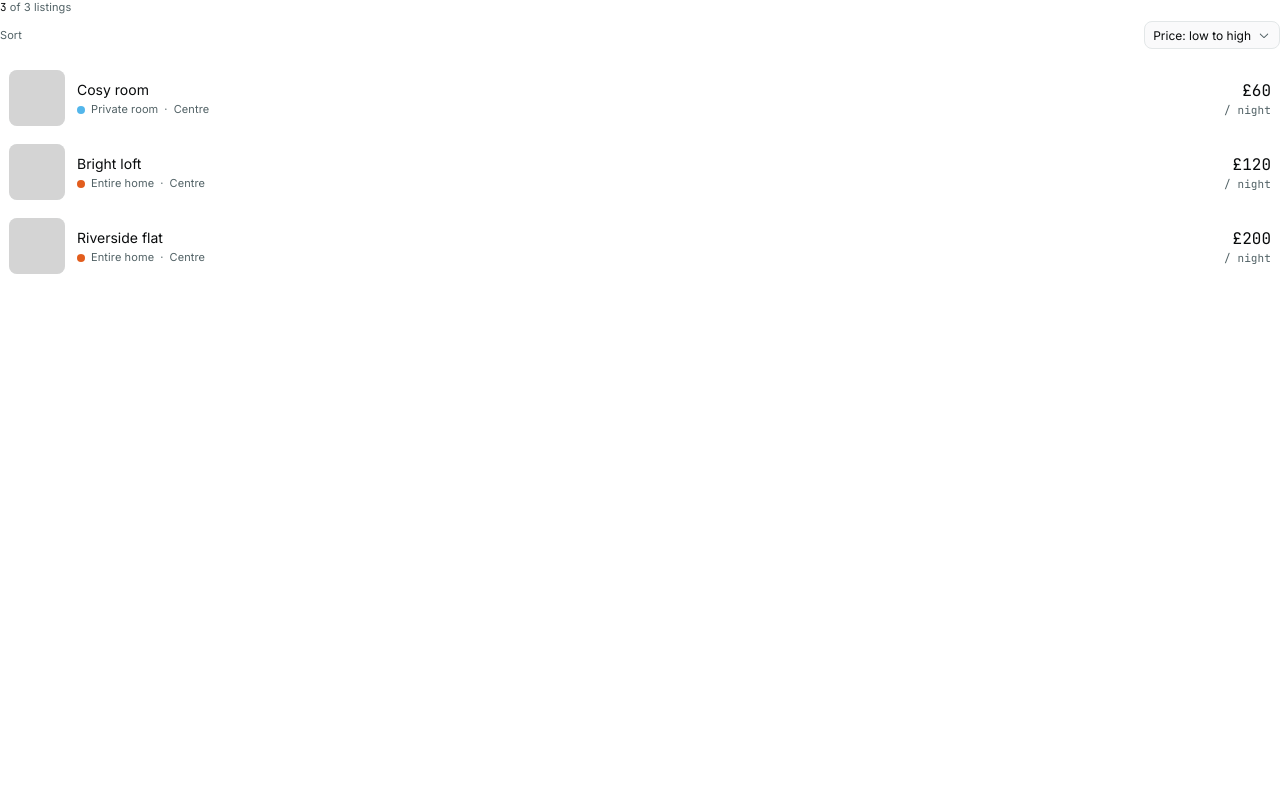
Test case: browse region › opens the detail drawer for Ada with host/reviews/provenance and never availability
What coordinates should you click on to do the following:
click the button "Bright loft Entire home · Centre £120 / night"
I would click on:
 (37, 172)
Its box is [0,135,1279,209].
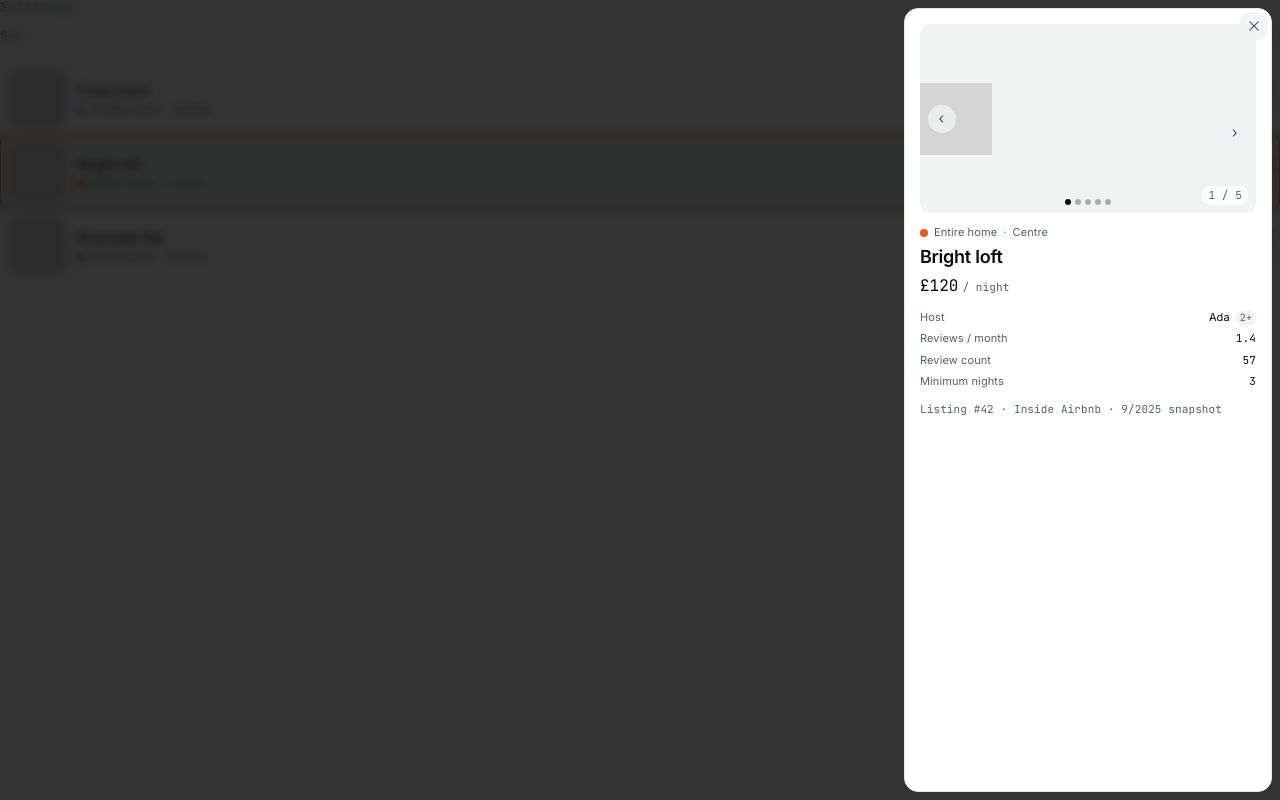
Check: the text "Ada" is shown, box [1209,310,1230,325]
Check: the text "Reviews / month" is shown, box [920,331,1008,347]
Check: the text "1.4" is shown, box [1236,331,1256,345]
